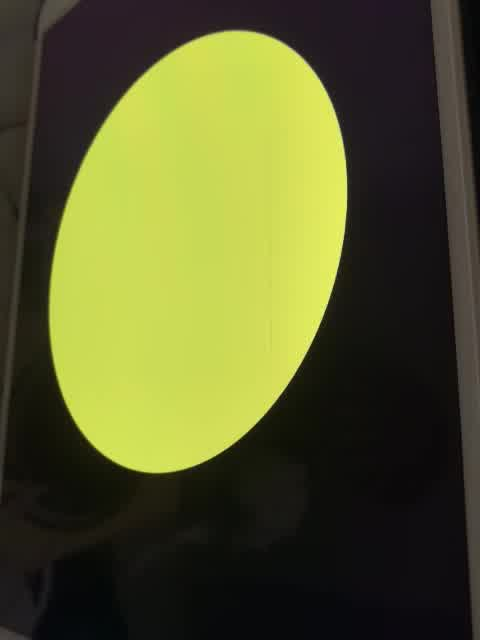left: (47, 19, 349, 475)
